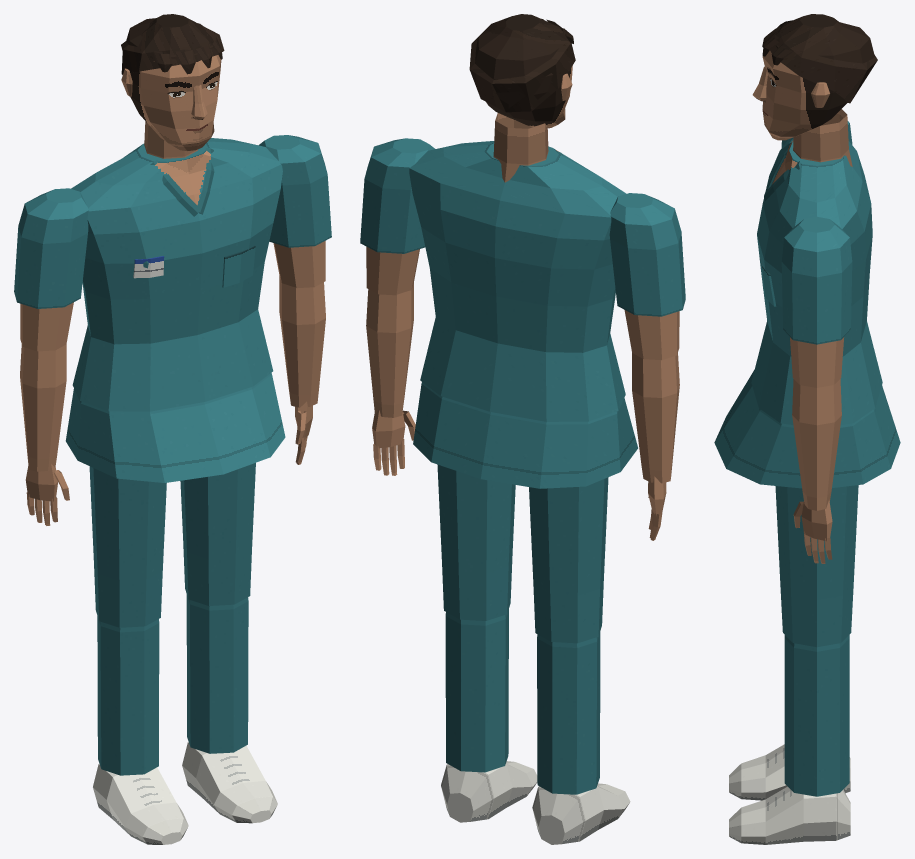
Rendered from orderly_male.glb.
The picture shows the model from 3 angles, left to right: view 1: azimuth 30°, elevation 25°; view 2: azimuth 150°, elevation 25°; view 3: azimuth 270°, elevation 25°; orthographic projection. The views are drawn at different scales.
Visible parts, largest first — view 1: scrub_top, scrub_skirt, thigh_r, upper_arm_r, calf_r, calf_l, thigh_l, upper_arm_l, head_skull, shoe_l, shoe_r, lower_arm_r (+5 smaller); view 2: scrub_top, scrub_skirt, thigh_r, thigh_l, upper_arm_r, calf_l, calf_r, upper_arm_l, lower_arm_r, lower_arm_l, hair_cap, head_skull (+4 smaller); view 3: scrub_top, upper_arm_l, calf_l, thigh_l, scrub_skirt, shoe_l, head_skull, lower_arm_l, hair_cap, shoe_r, neck_column, palm_l (+2 smaller).
Boxes of the visible parts, bbox=[...] form: scrub_top: bbox=[71, 138, 282, 411]; scrub_skirt: bbox=[65, 373, 285, 482]; thigh_r: bbox=[89, 466, 166, 627]; upper_arm_r: bbox=[14, 188, 88, 351]; calf_r: bbox=[97, 616, 159, 775]; calf_l: bbox=[186, 594, 248, 753]; thigh_l: bbox=[180, 463, 255, 605]; upper_arm_l: bbox=[259, 135, 331, 288]; head_skull: bbox=[126, 18, 221, 150]; shoe_l: bbox=[182, 742, 277, 823]; shoe_r: bbox=[93, 763, 188, 844]; lower_arm_r: bbox=[20, 344, 66, 471]; scrub_top: bbox=[409, 141, 626, 421]; scrub_skirt: bbox=[413, 382, 637, 488]; thigh_r: bbox=[529, 477, 608, 643]; thigh_l: bbox=[437, 464, 515, 620]; upper_arm_r: bbox=[609, 193, 685, 360]; calf_l: bbox=[445, 609, 508, 772]; calf_r: bbox=[537, 632, 600, 794]; upper_arm_l: bbox=[360, 138, 434, 295]; lower_arm_r: bbox=[632, 353, 679, 483]; lower_arm_l: bbox=[366, 283, 413, 417]; hair_cap: bbox=[469, 14, 575, 112]; head_skull: bbox=[475, 31, 572, 128]; scrub_top: bbox=[751, 137, 882, 424]; upper_arm_l: bbox=[781, 216, 852, 387]; calf_l: bbox=[784, 635, 849, 796]; thigh_l: bbox=[775, 485, 858, 647]; scrub_skirt: bbox=[714, 370, 900, 488]; shoe_l: bbox=[729, 786, 850, 844]; head_skull: bbox=[762, 22, 874, 140]; lower_arm_l: bbox=[792, 379, 841, 510]; hair_cap: bbox=[766, 14, 877, 103]; shoe_r: bbox=[729, 744, 850, 800]; neck_column: bbox=[793, 109, 852, 166]; palm_l: bbox=[801, 500, 832, 541].
Bounding box in the file's own units: 0.7779 × 1.87 × 0.3969.
1 material, 1 textured.
